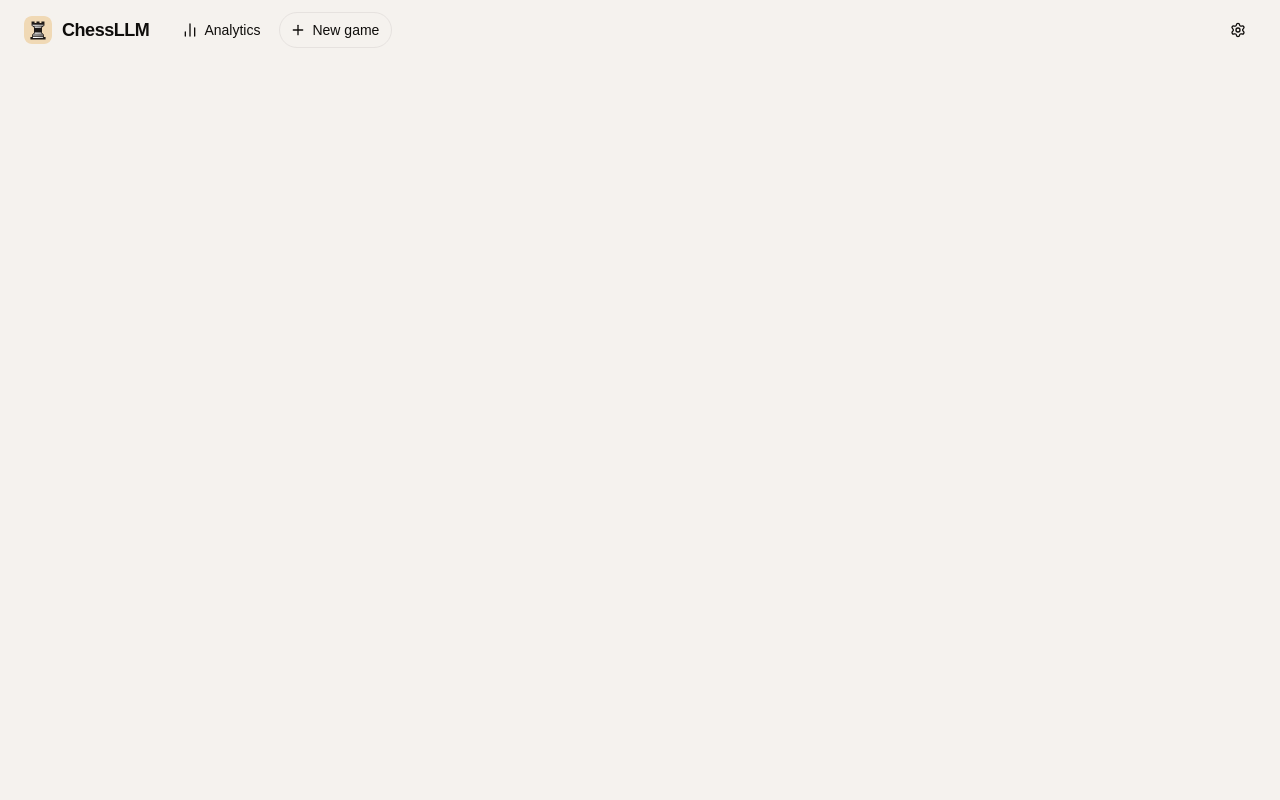
Test: Preferences › opens a panel with the Move sound switch, off in a browser that never turned it on
The width and height of the screenshot is (1280, 800).
Click the button named "Preferences": (1238,30) x1=1220 y1=12 x2=1256 y2=48
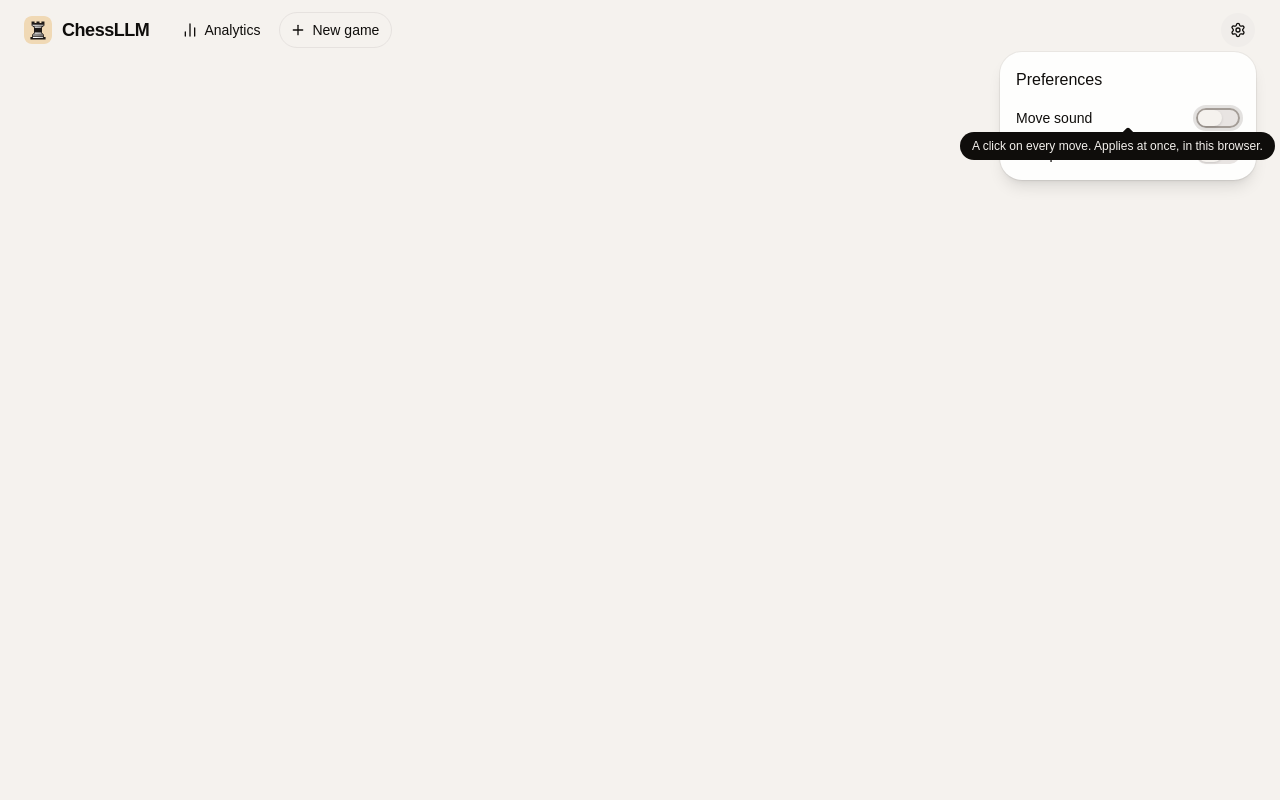
Now the switch named "Move sound" is not checked, box x1=1196 y1=108 x2=1240 y2=128
